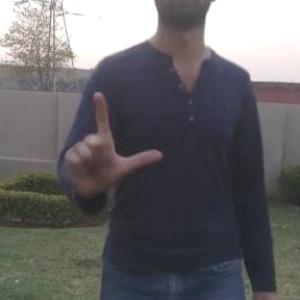land_hand: (62, 84, 163, 197)
